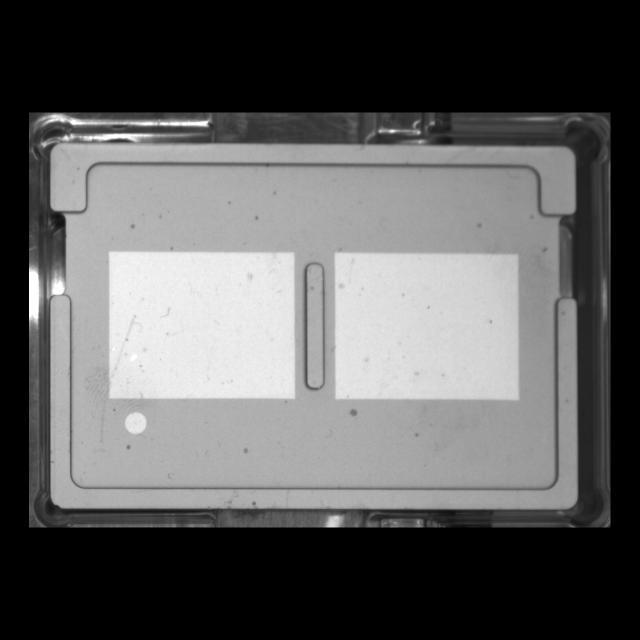door: (39, 134, 589, 234)
point: (113, 406, 155, 442)
